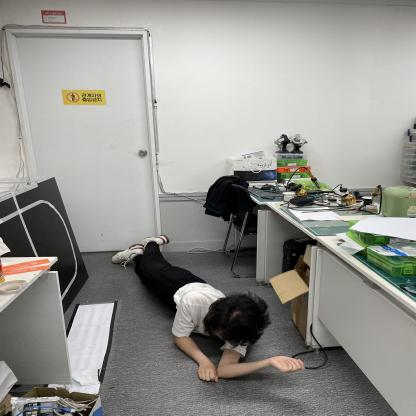fall: (112, 232, 306, 383)
